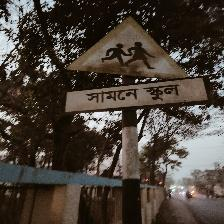School-in-front: (61, 15, 211, 116)
